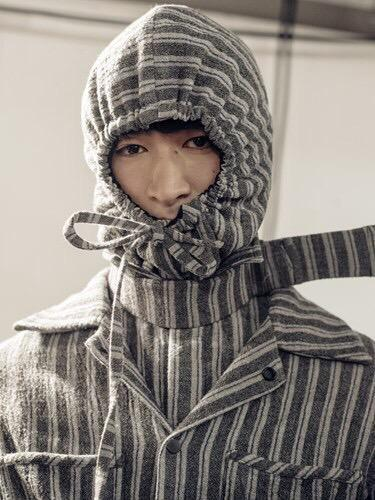WRONG: (102, 120, 244, 262)
